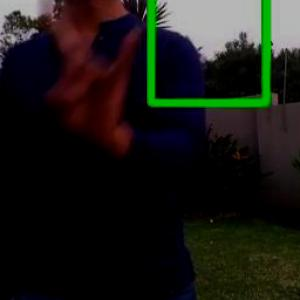takeoff-hand: (34, 0, 155, 149)
